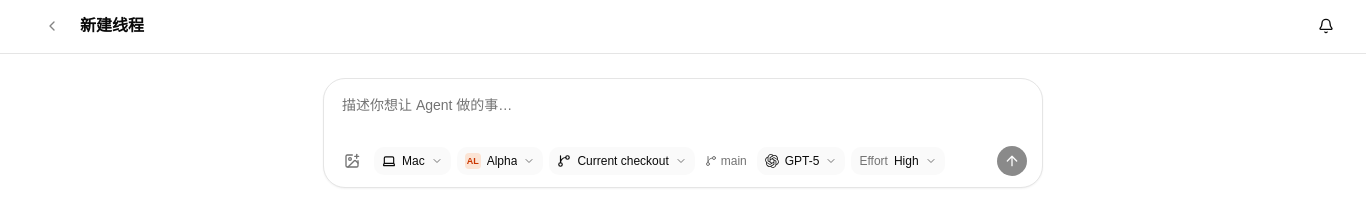
Test: NewThreadPage › locks the composer and ignores paste while a create is in flight
The width and height of the screenshot is (1366, 205).
Expected: the button with aria-label "项目" shows "Alpha", [457,147,543,175]
Type "go" into the text box named "消息内容". click: (683, 115)
box: [338,91,1028,139]
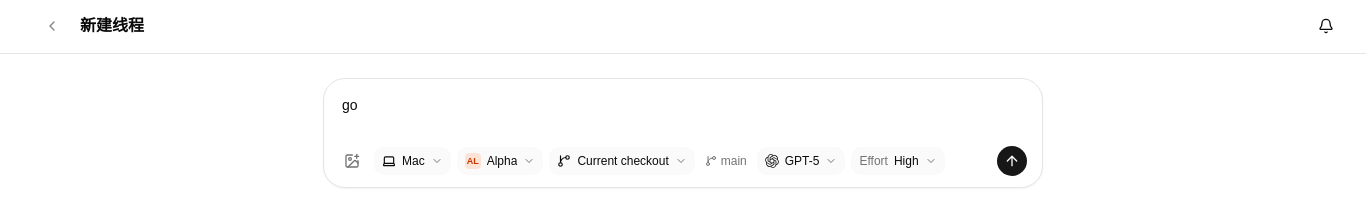
Click the button named "发送". click: (1012, 161)
box: [996,145,1028,177]
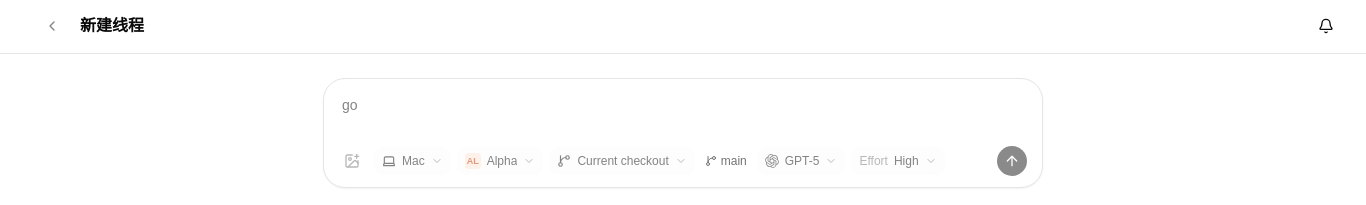
Expected: the text box named "消息内容" is disabled, [338,91,1028,139]
Expected: the button with aria-label "运行环境" is disabled, [374,147,451,175]
Expected: the button with aria-label "项目" is disabled, [457,147,543,175]
